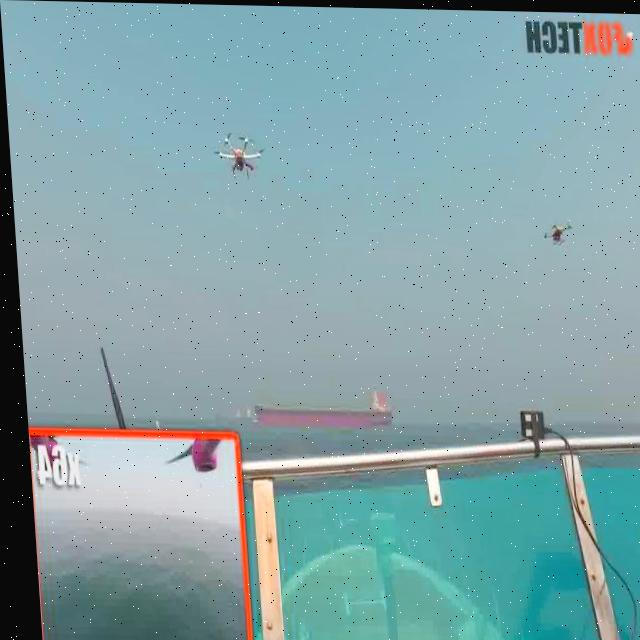drone: (537, 204, 579, 259)
